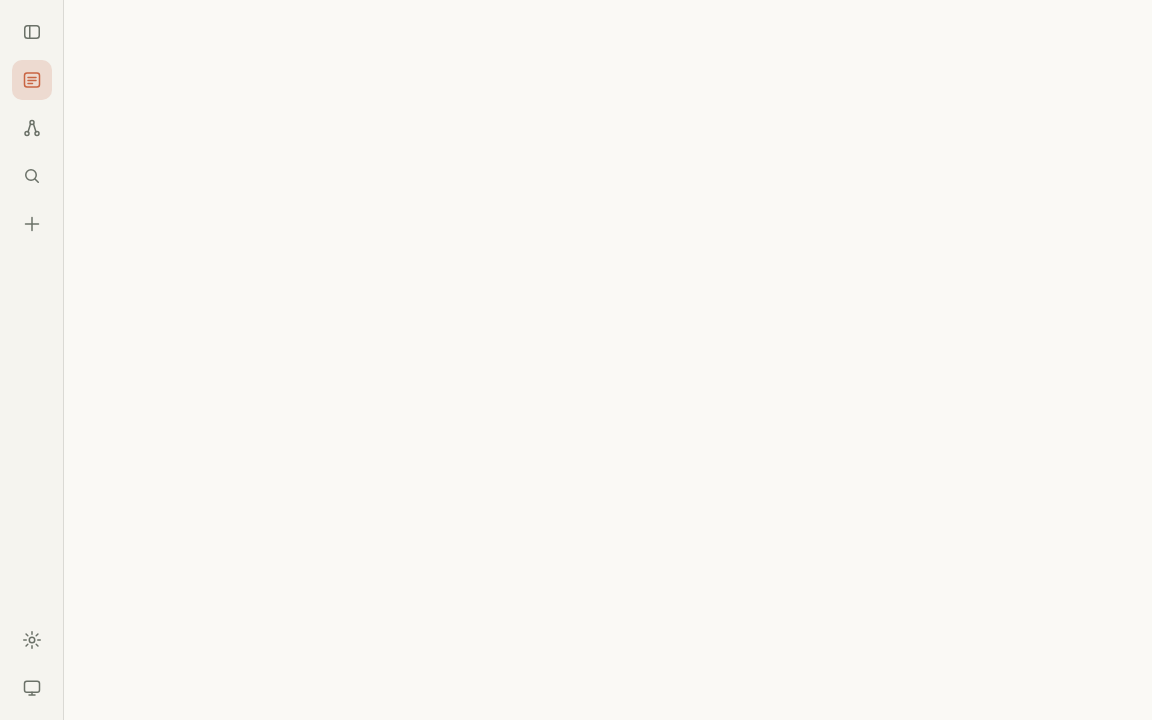
it: AppShell 窄屏（<900px）窄 rail 常驻 + 覆盖抽屉 › 窄屏默认常驻窄 rail，点设置直接开覆盖抽屉与菜单，逐层 Escape 收起
The image size is (1152, 720).
Expected: the button named "展开侧栏" is shown, [12, 12, 52, 52]
// 点 rail 上的「设置」：一次展开覆盖抽屉并打开设置菜单
Click the button named "设置".
click(32, 640)  # box [12, 620, 52, 660]
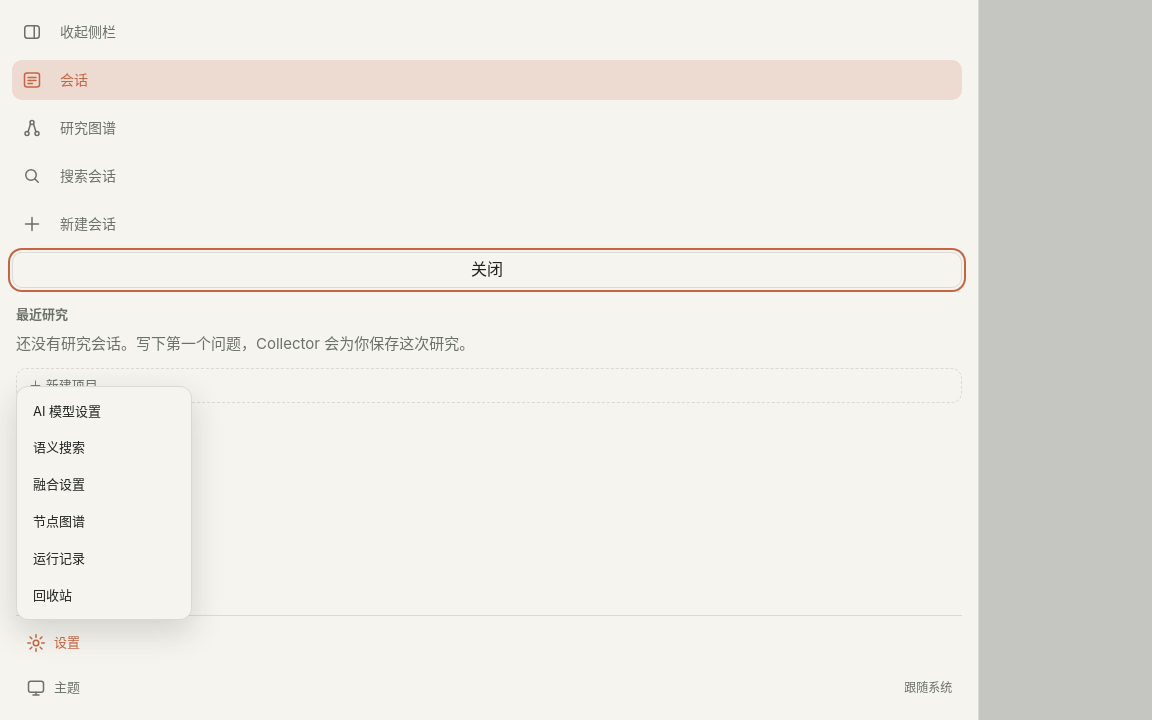
Expected: the heading "最近研究" is shown, [16, 306, 68, 322]
Expected: the menu "设置" is shown, [16, 386, 192, 620]
// 第一次 Escape 只关闭设置菜单，侧栏保持展开
Press Escape
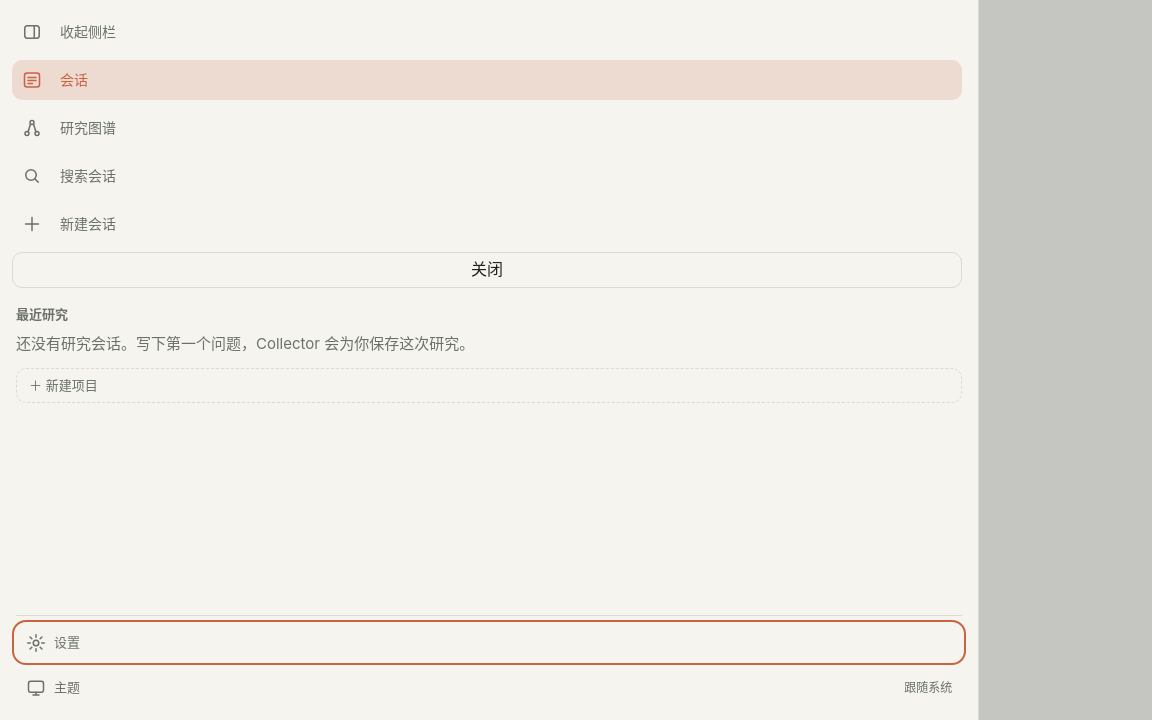
Expected: the heading "最近研究" is shown, [16, 306, 68, 322]
// 第二次 Escape：收起回窄 rail，遮罩消失
Press Escape
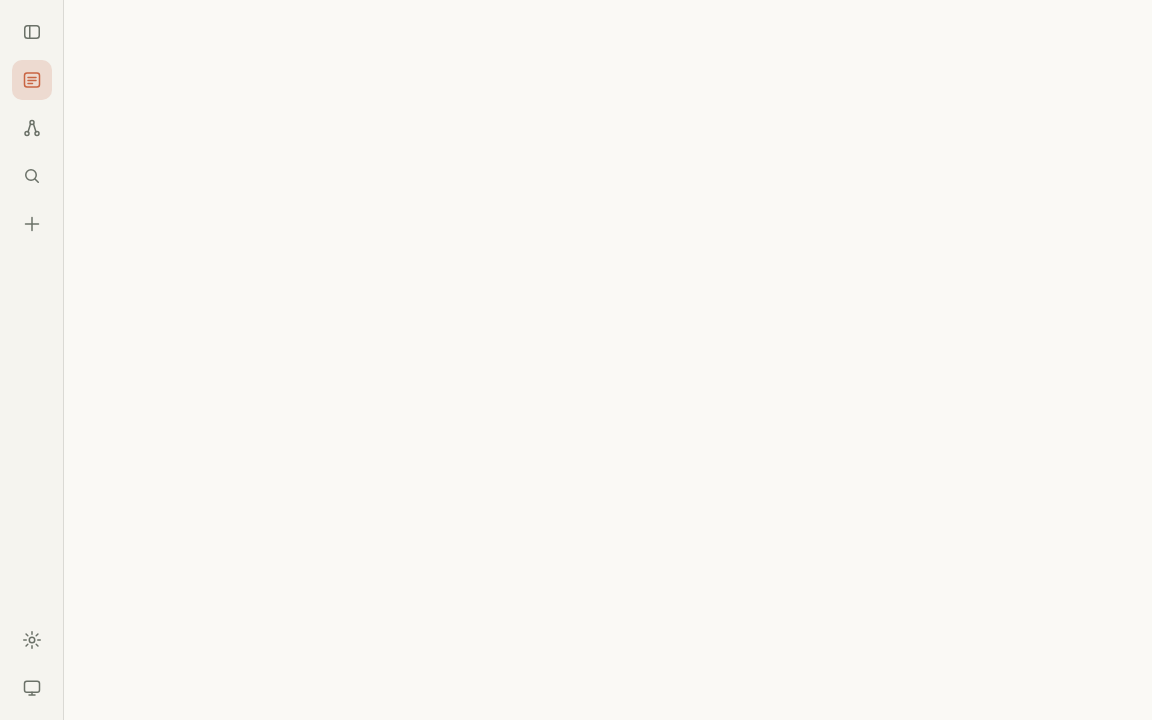
Expected: the heading "最近研究" is gone
